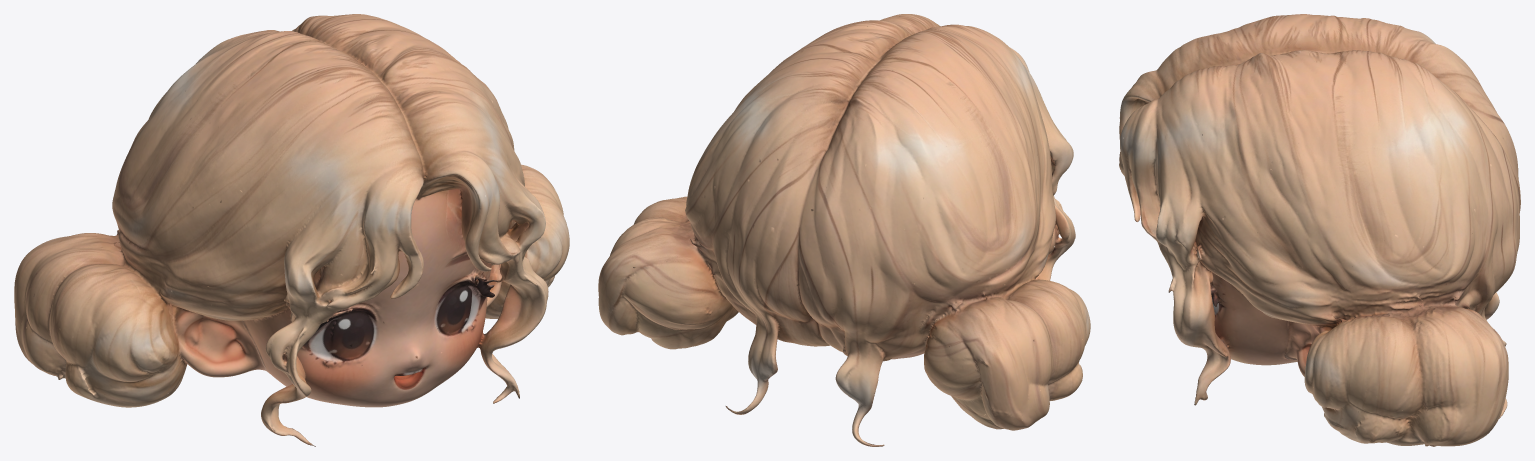
Rendered from rosie-doll.glb.
3 renders of one model, left to right at view 1: azimuth 30°, elevation 25°; view 2: azimuth 150°, elevation 25°; view 3: azimuth 270°, elevation 25°, orthographic. The views are drawn at different scales.
Size of the model in its own units: 2 by 1.4 by 1.47.
1 material, 1 textured.
